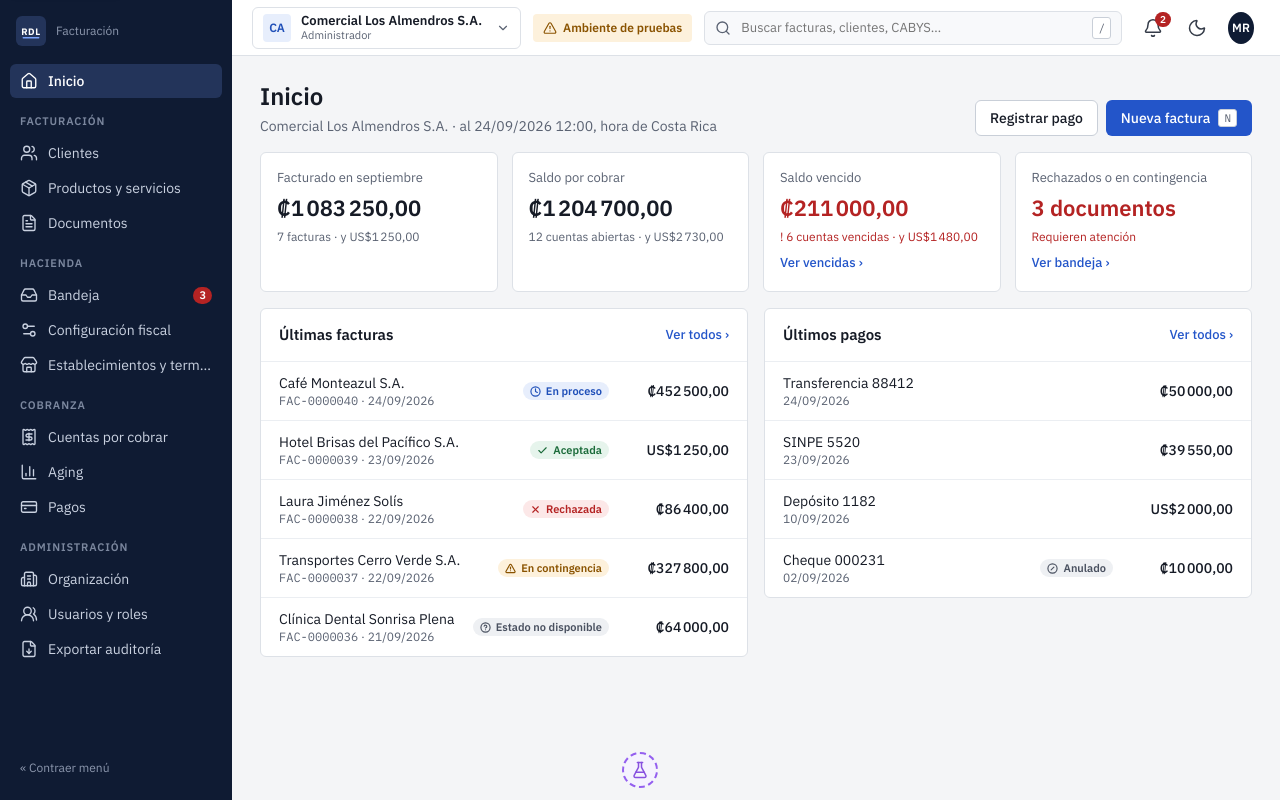
pantalla 6 · inicio › muestra cobranza y Hacienda con sus enlaces cuando hay algo que atender
This screenshot has width=1280, height=800.
Expected: the text "! 6 cuentas vencidas · y US$1 480,00" is shown, x1=780 y1=229 x2=978 y2=245
Expected: the text "3 documentos" is shown, x1=1032 y1=193 x2=1176 y2=223
Click the button "Ver bandeja ›" at x=1070, y=263, box x1=1032 y1=251 x2=1110 y2=275
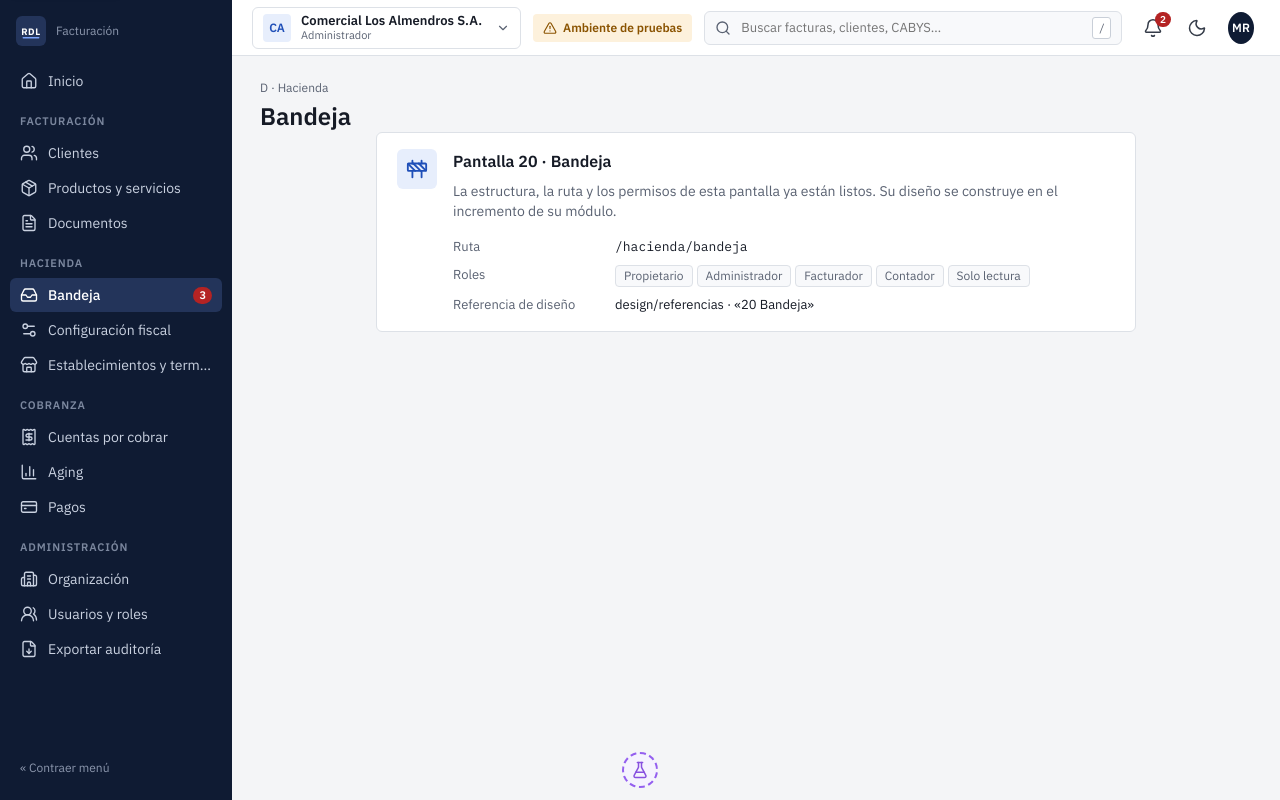
Now the text "/hacienda/bandeja" is shown, box x1=615 y1=238 x2=748 y2=255
